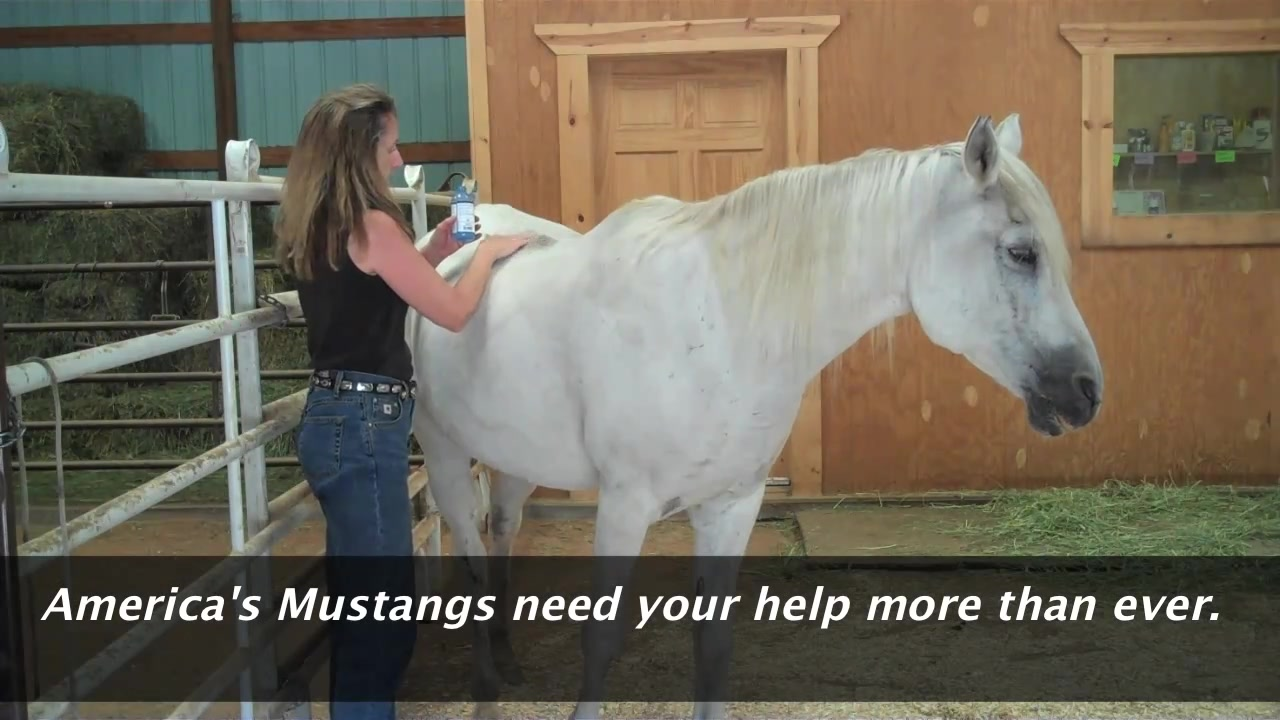horse: (405, 112, 1104, 720)
